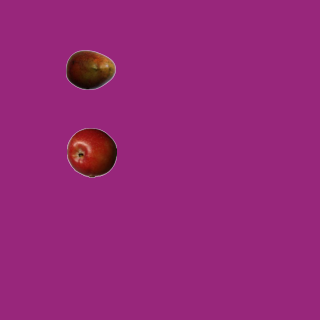Apple Braeburn: (66, 127, 116, 177)
Mango Red: (65, 44, 115, 94)
